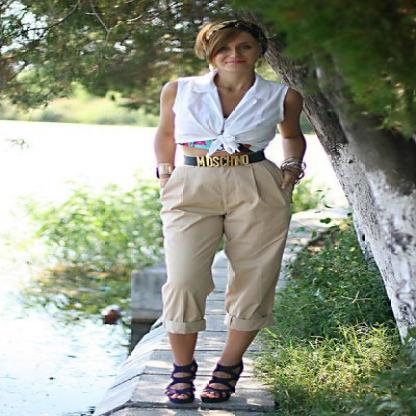pants: (150, 158, 304, 347)
shirt: (173, 64, 286, 166)
shoe: (170, 355, 248, 404)
